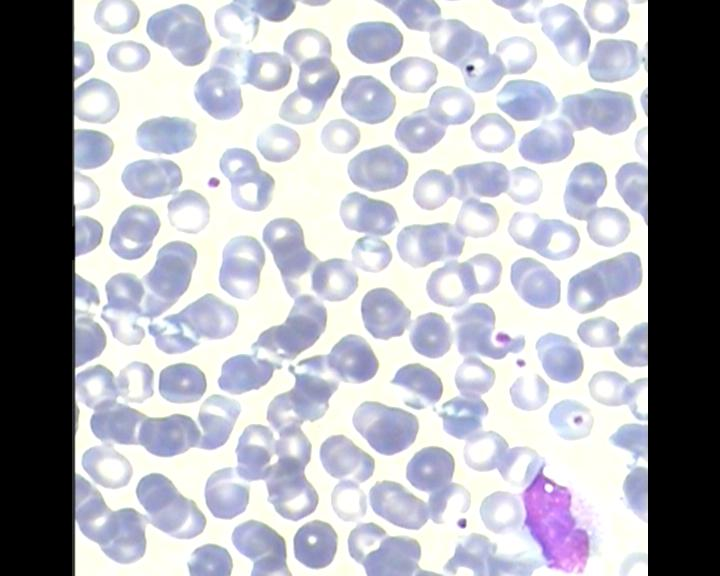mono: (515, 460, 612, 573)
